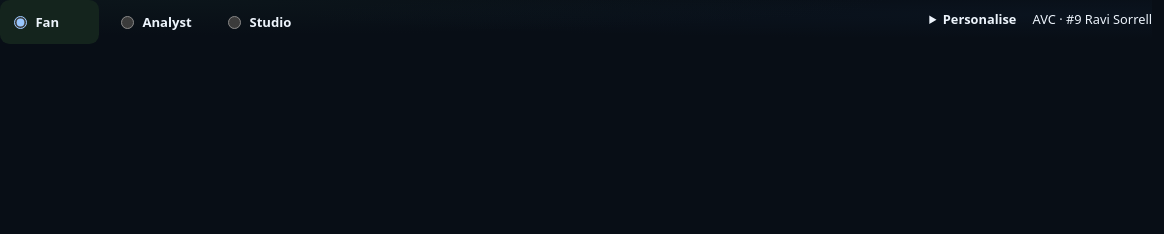
it: ProfileBar language switch › shows the saved Tamil choice as selected
This screenshot has width=1164, height=234.
Click the heading "Personalise AVC · #9 Ravi Sorrell".
click(1047, 19)  # box [943, 10, 1152, 28]
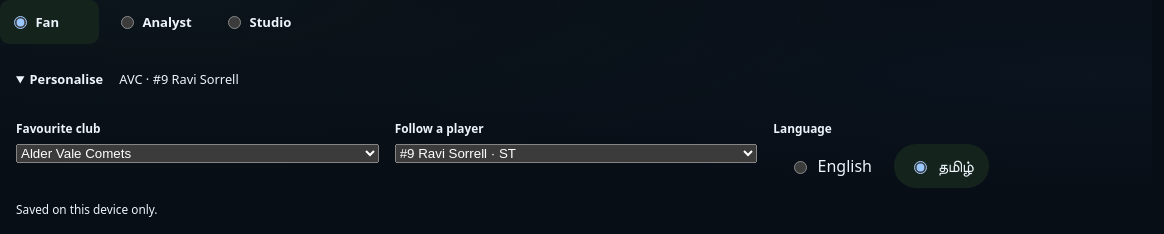
Result: the radio button labelled "தமிழ்" is checked at [914, 161, 927, 174]
Result: the radio button labelled "English" is not checked at [794, 161, 806, 174]
